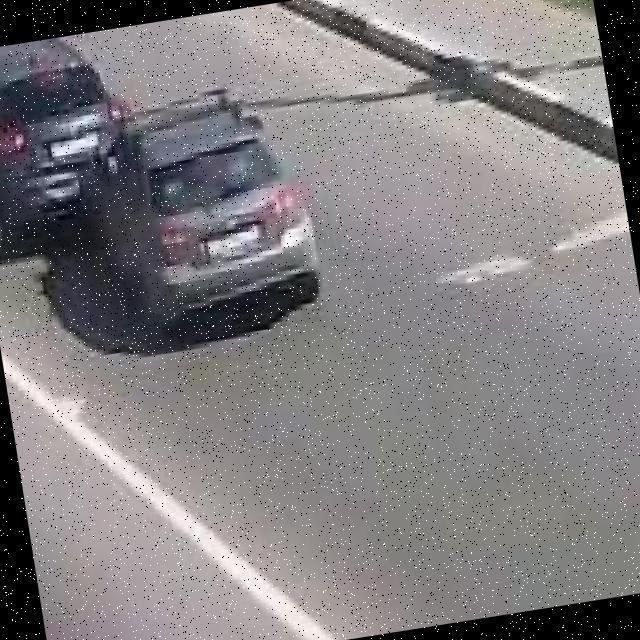accident: (0, 3, 327, 368)
